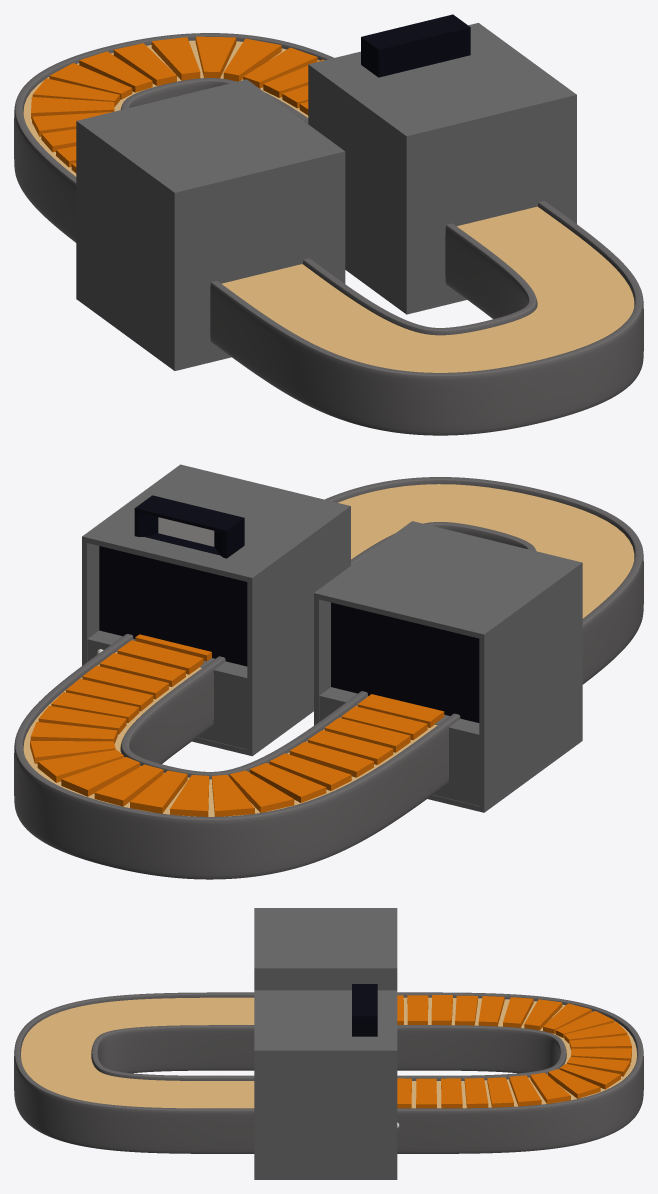
File: conveyor.fbx
3 views of the same model, one above another, from view 1: azimuth 30°, elevation 25°; view 2: azimuth 150°, elevation 25°; view 3: azimuth 270°, elevation 25° (orthographic). The views are drawn at different scales.
Parts seen in each view (by area): view 1: 球体.001; view 2: 球体.001; view 3: 球体.001.
Boxes of the visible parts, x1,y1,x2,y2 form: 球体.001: (14, 14, 643, 435); 球体.001: (14, 464, 643, 879); 球体.001: (14, 908, 643, 1179).
Size of the model in its own units: 4902 by 2621 by 1284.
